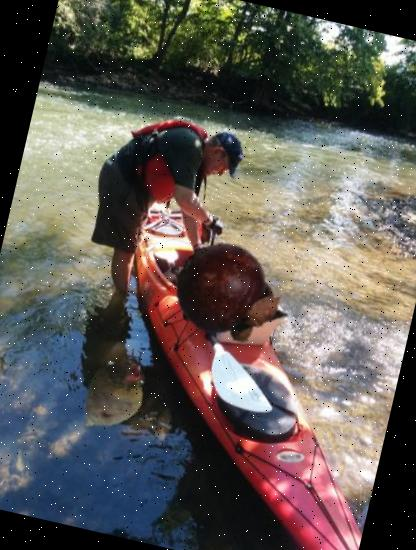Beetroot: (63, 346, 163, 446)
Mangostan: (162, 227, 300, 365)
